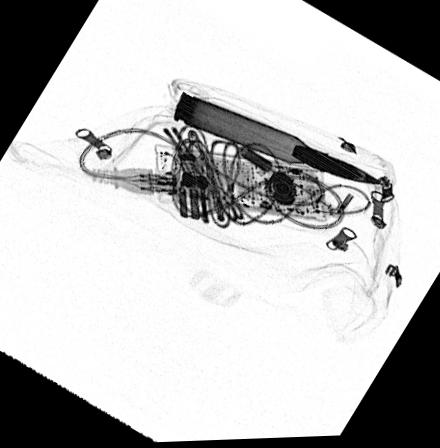Bullet: (172, 94, 383, 189)
